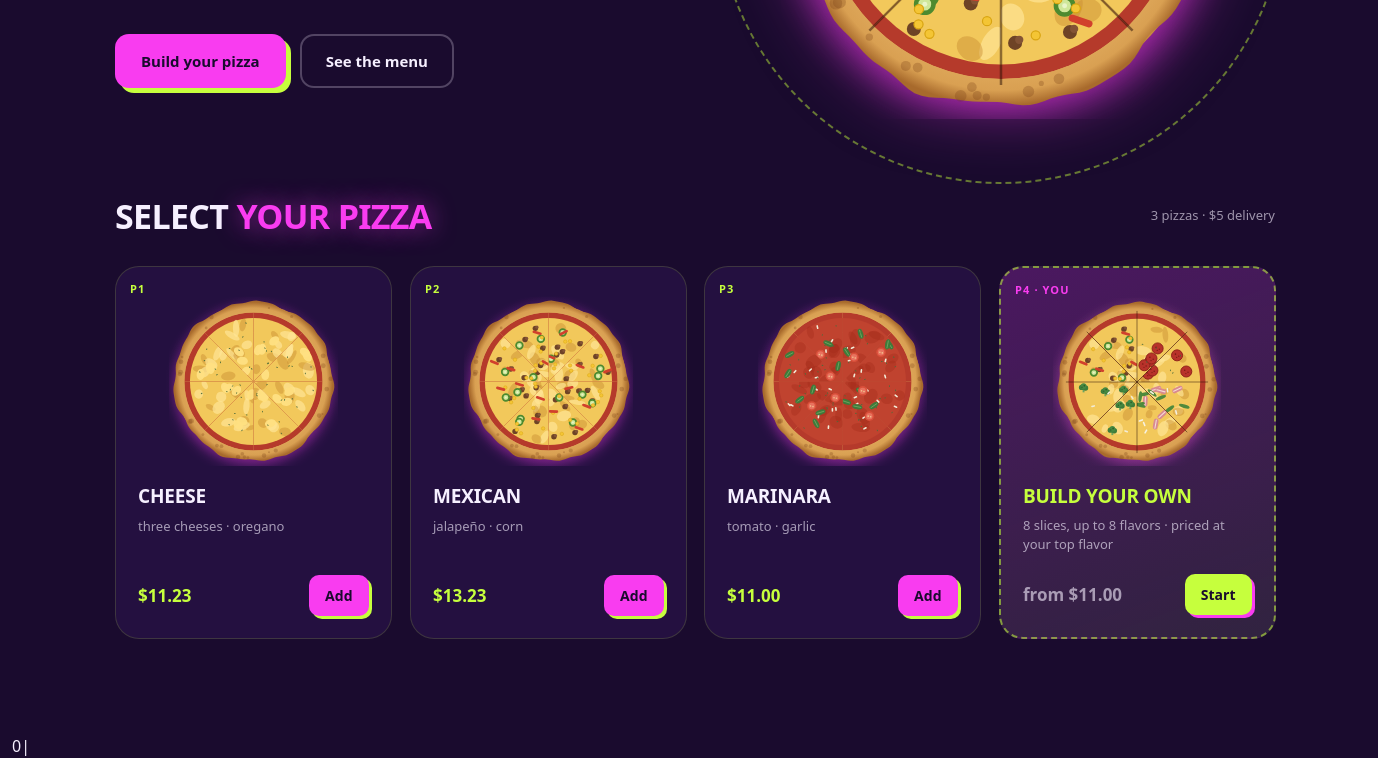
Test: Menu › adds a pizza to the cart and toasts
(page scrolled)
Check: the heading "Mexican" is shown, box [432,483,520,509]
Click the button with aria-label "Add Mexican to your order": {"x": 633, "y": 595} [604,574,663,615]
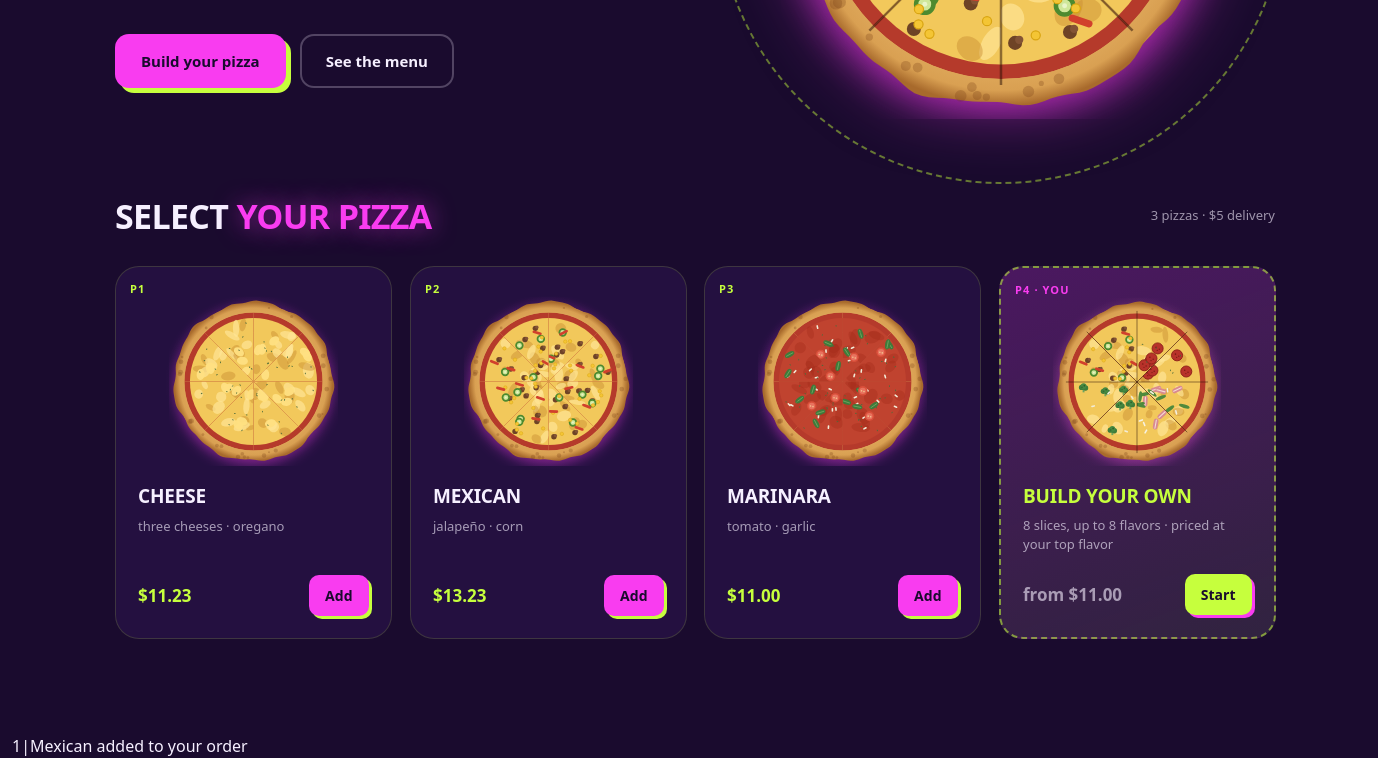
Check: the text with test id "probe" reads "1|Mexican added to your order", box [12,735,21,757]
